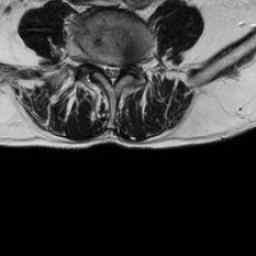CCS_normal: (108, 58, 116, 87)
LFS_severe_stenosis: (123, 55, 131, 77)
LLS_stenosis: (116, 58, 123, 81)
RFS_severe_stenosis: (93, 54, 100, 76)
RLS_stenosis: (100, 57, 108, 80)
